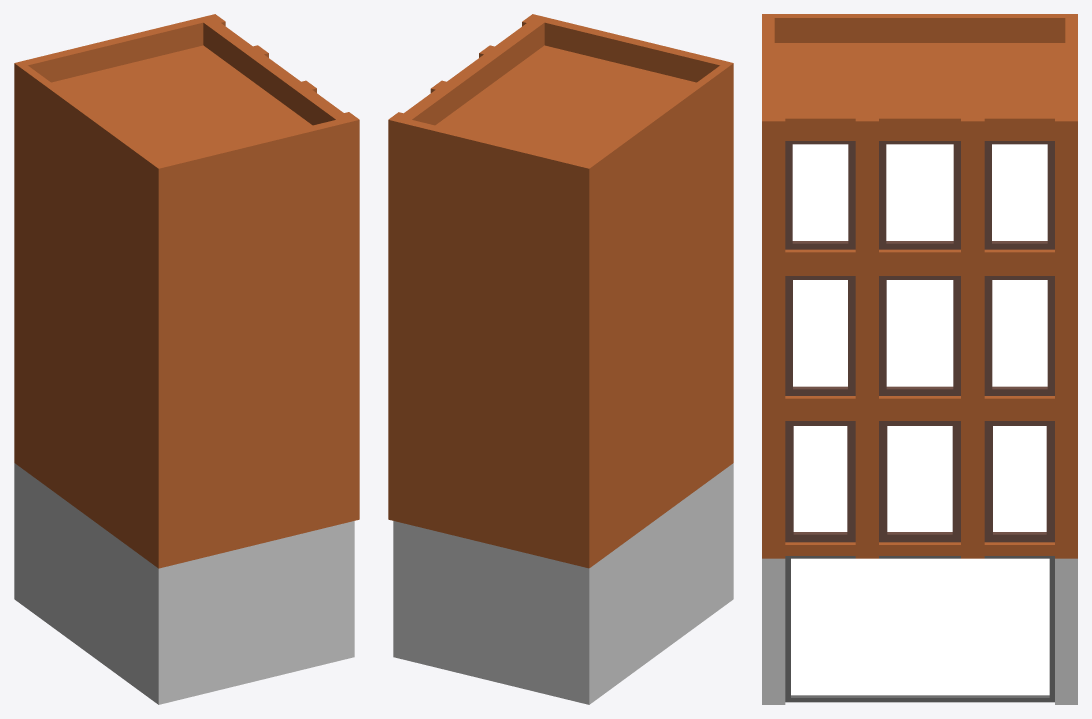
Rendered from House 2.1.fbx.
3 views of the same model, side by side, from view 1: azimuth 30°, elevation 25°; view 2: azimuth 150°, elevation 25°; view 3: azimuth 270°, elevation 25° (orthographic). The views are drawn at different scales.
Parts seen in each view (by area): view 1: House 2.006; view 2: House 2.006; view 3: House 2.006.
Part boxes in pixels (left/top/right/bottom): House 2.006: left=14, top=14, right=359, bottom=704; House 2.006: left=388, top=14, right=733, bottom=704; House 2.006: left=762, top=14, right=1077, bottom=704.
Size of the model in its own units: 804 by 2049 by 1001.
